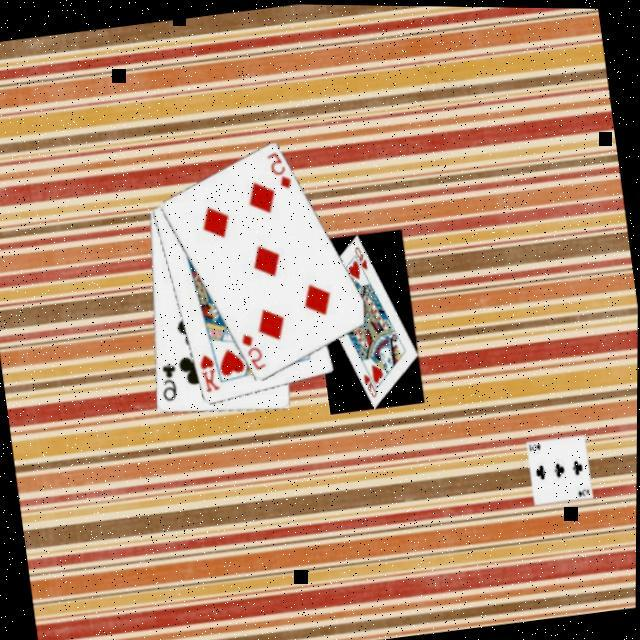5D: (238, 330, 272, 376), (264, 149, 297, 195)
9C: (156, 361, 184, 406)
KH: (197, 351, 224, 397)
